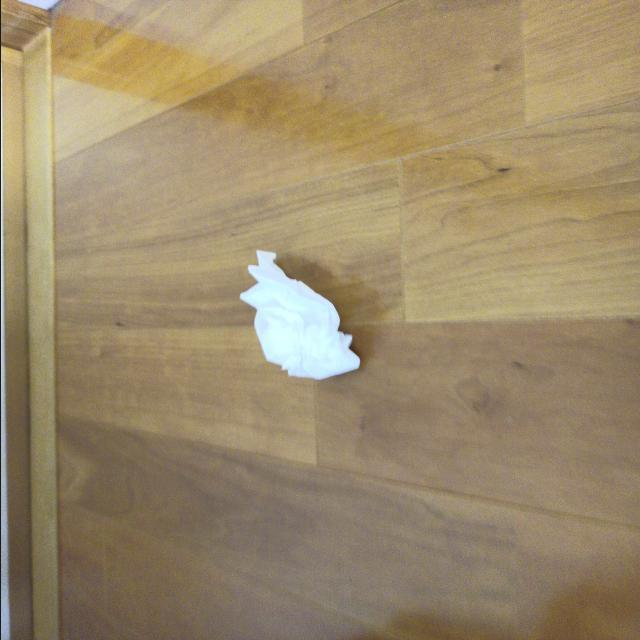Paper: (236, 239, 401, 419)
